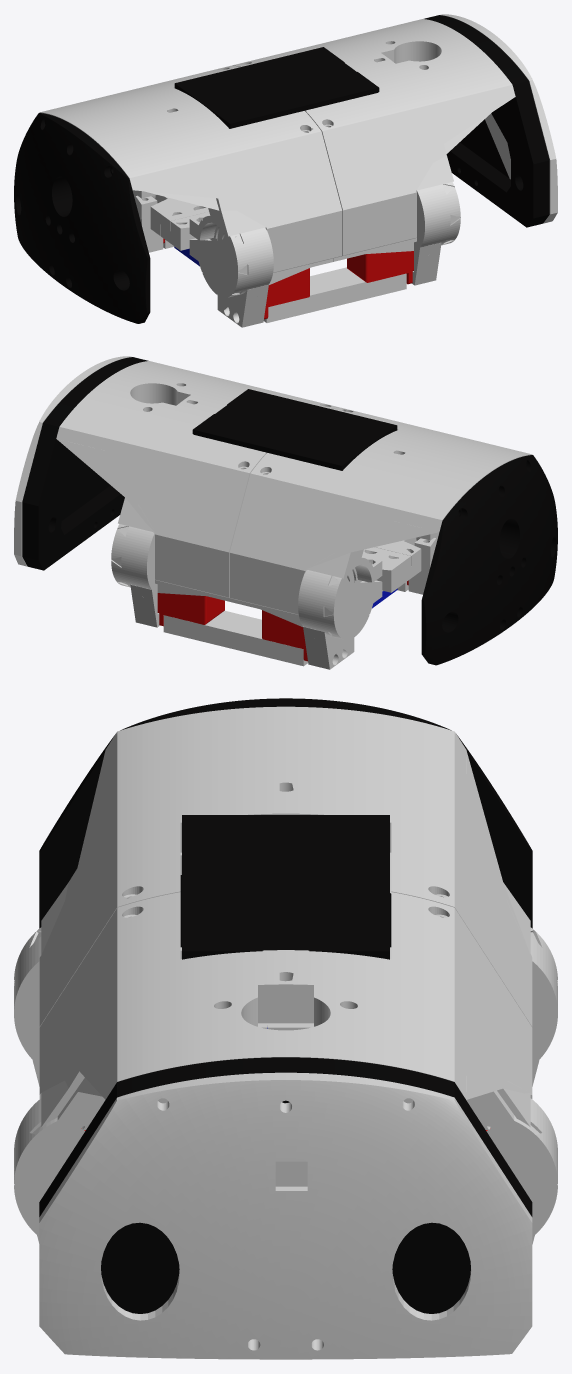
The picture shows the model from 3 angles, top to bottom: view 1: azimuth 30°, elevation 25°; view 2: azimuth 150°, elevation 25°; view 3: azimuth 270°, elevation 25°; orthographic projection. The views are drawn at different scales.
Parts seen in each view (by area): view 1: cover4.003_Cylinder.028; view 2: cover4.003_Cylinder.028; view 3: cover4.003_Cylinder.028.
Boxes of the visible parts, x1,y1,x2,y2 form: cover4.003_Cylinder.028: (14,14,557,327); cover4.003_Cylinder.028: (14,356,557,669); cover4.003_Cylinder.028: (14,698,557,1359).
Size of the model in its own units: 0.2645 by 0.1017 by 0.151.
